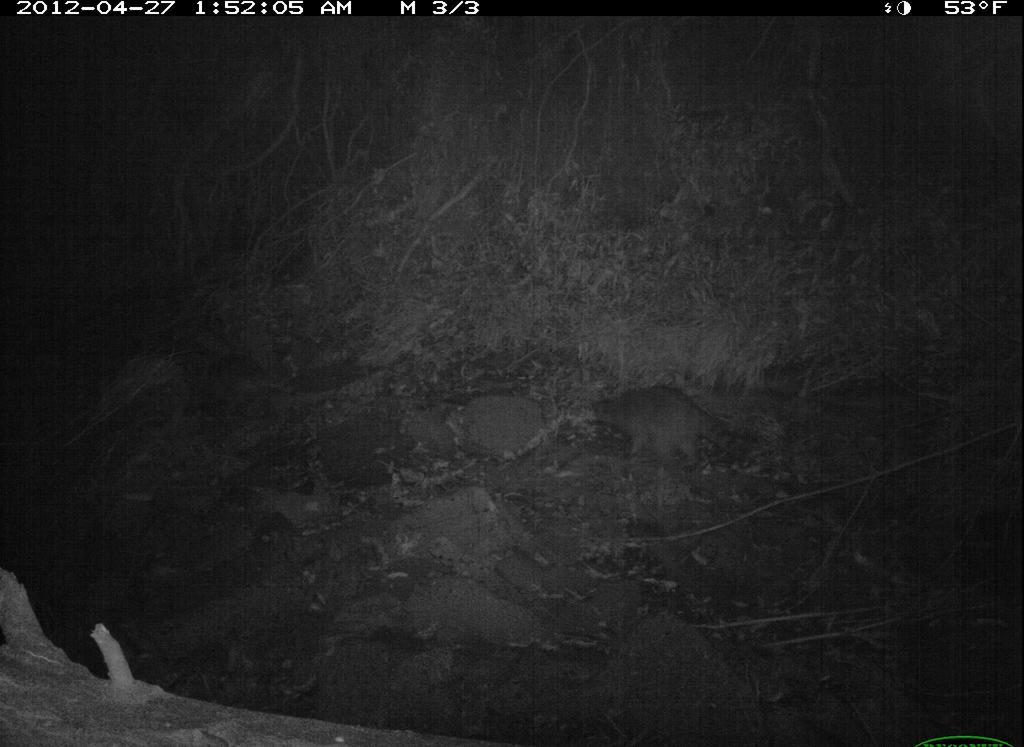raccoon: (585, 377, 758, 479)
